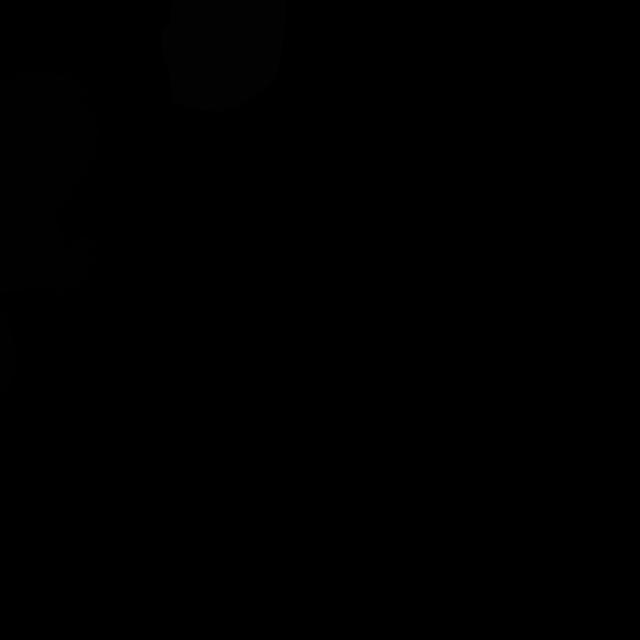cardboard: (160, 0, 286, 112)
rigid_plastic: (0, 69, 102, 297)
